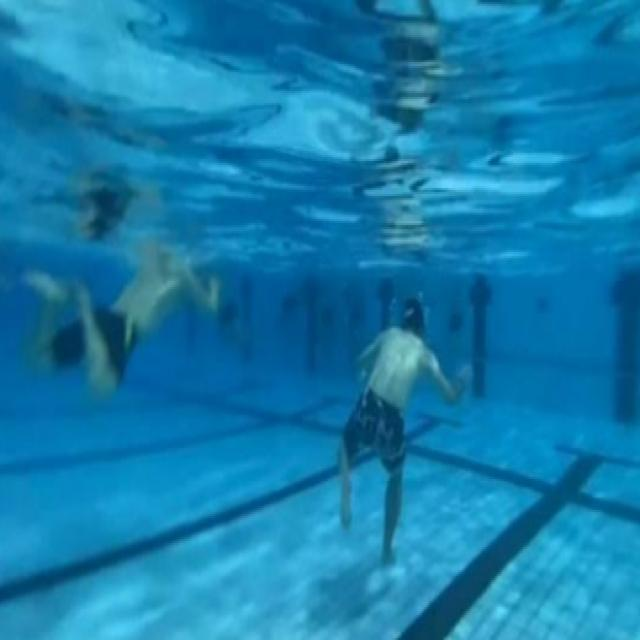Drowning: (332, 294, 468, 564)
Swimming: (23, 241, 222, 393)
